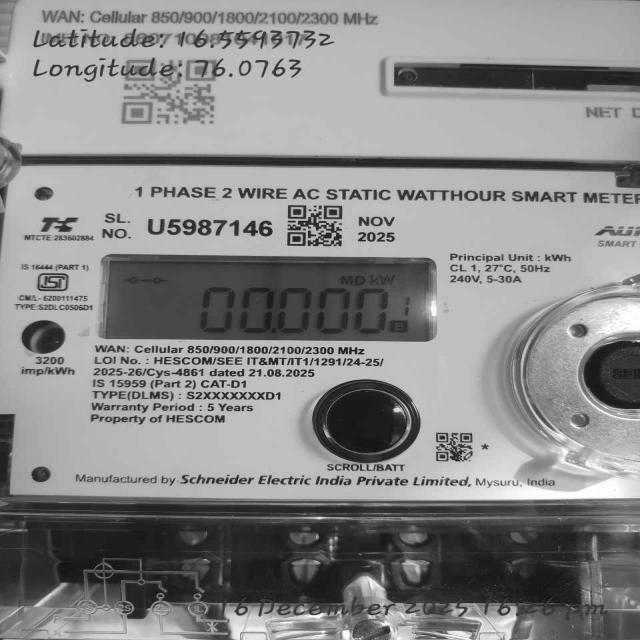meter: (0, 2, 637, 502)
